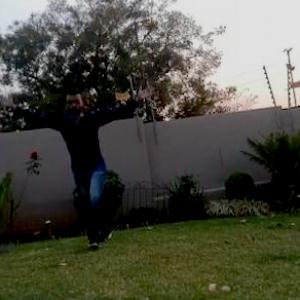takeoff: (21, 84, 168, 252)
